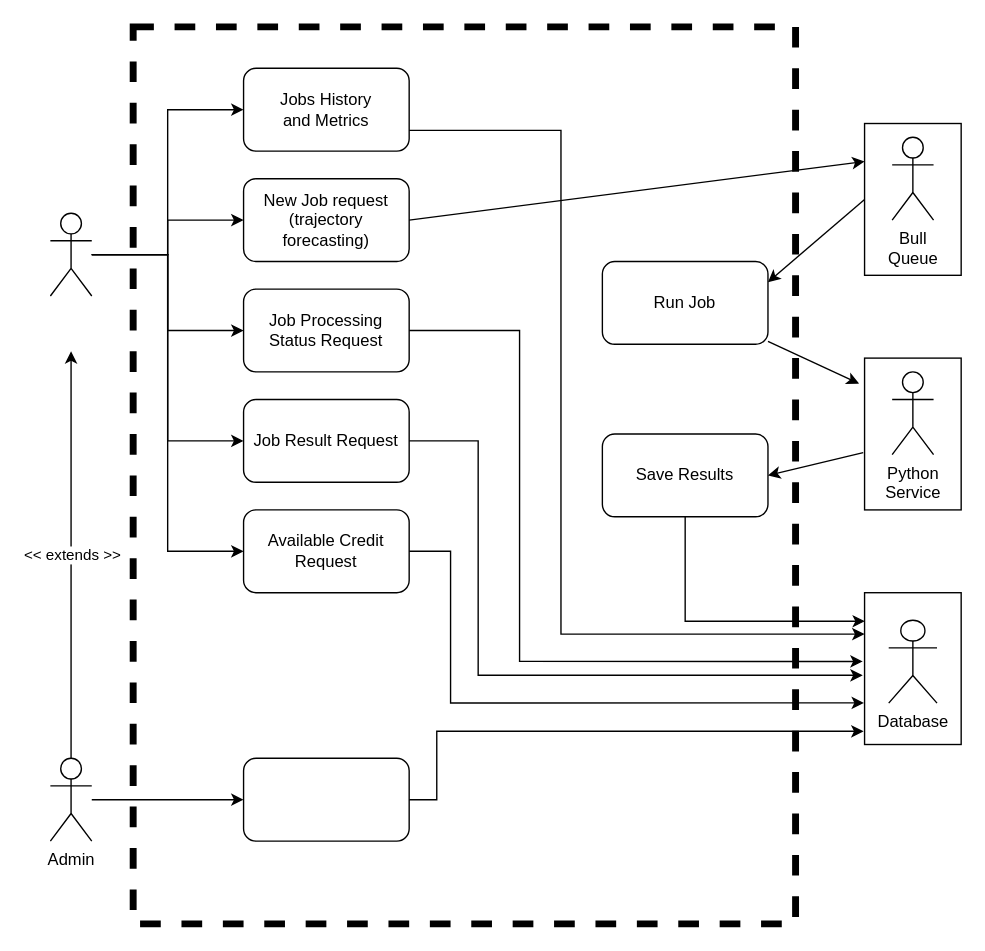
This 985x951 diagram has some shape labels left out. The shapes that lost their labels are listed below. From the top down, each one's centre as x and y in pixels, then its label:
the point at 70,254: User
the point at 325,799: Credit Charge Request
